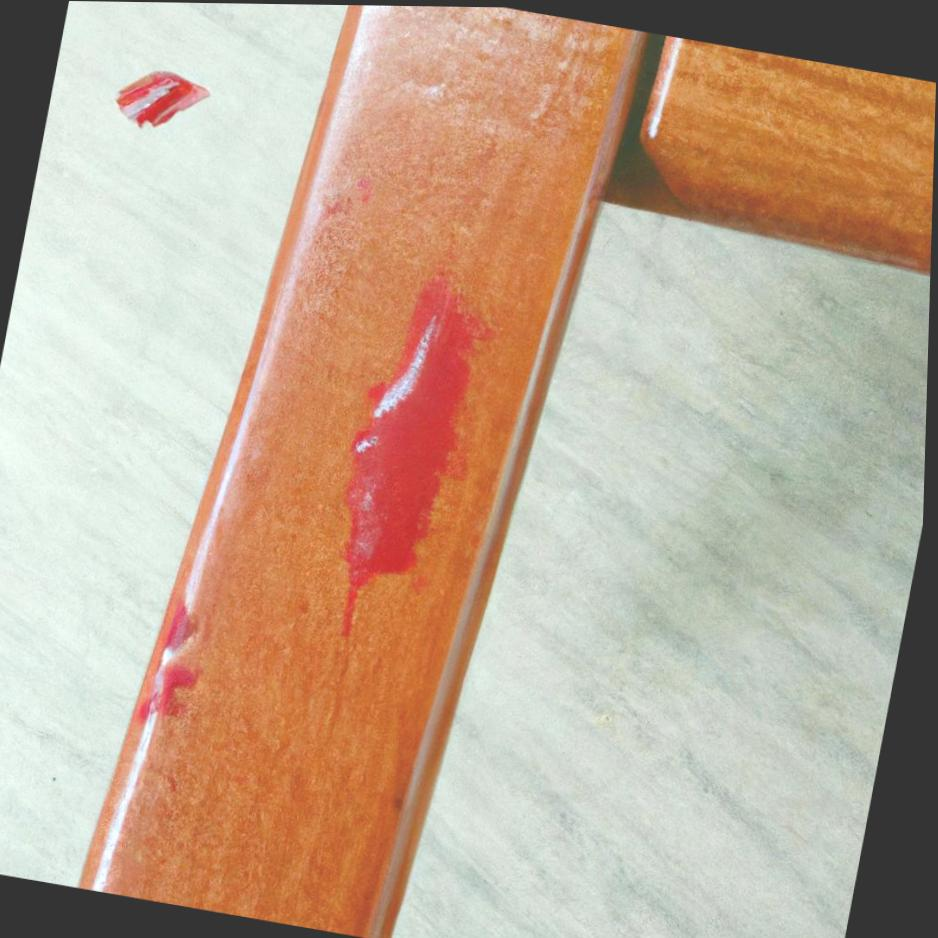Fire: (344, 268, 497, 636), (141, 662, 206, 722), (166, 597, 200, 649)
